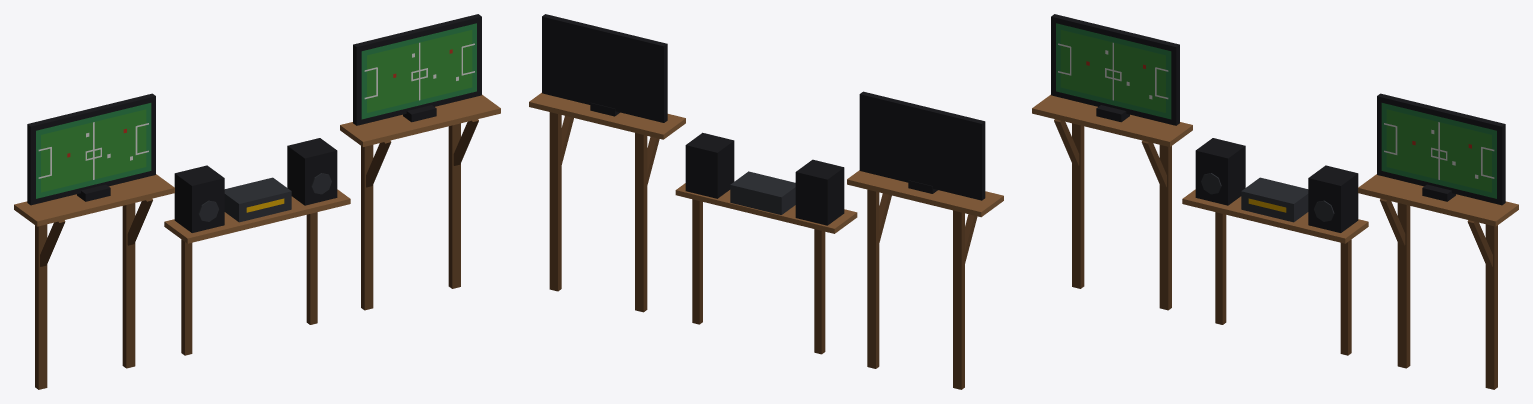
The model's file is prop_match-tvs.b87fb36d6431.glb.
3 renders of one model, left to right at view 1: azimuth 30°, elevation 25°; view 2: azimuth 150°, elevation 25°; view 3: azimuth 330°, elevation 25°, orthographic. The views are drawn at different scales.
Parts seen in each view (by area): view 1: body; view 2: body; view 3: body.
Part boxes in pixels (box(x1,y1,x2,y2)): body: box(14, 14, 500, 389); body: box(529, 14, 1003, 389); body: box(1032, 14, 1518, 389).
Size of the model in its own units: 3.7 by 2.07 by 0.3215.
